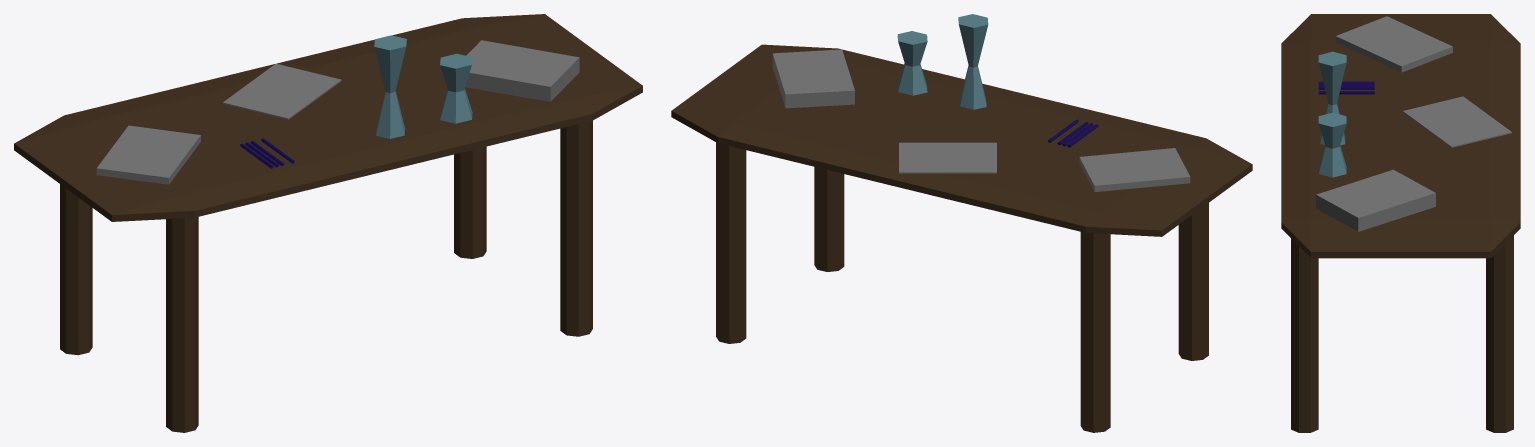
File: Work Table.fbx
3 renders of one model, left to right at view 1: azimuth 30°, elevation 25°; view 2: azimuth 150°, elevation 25°; view 3: azimuth 270°, elevation 25°, orthographic. The views are drawn at different scales.
Visible parts, largest first — view 1: beveled_cuboid, cylinder_1, cylinder, cylinder_3, cube, cube_1, cube_2, cylinder_2, cone_3, cone_2, cone_1, cone; view 2: beveled_cuboid, cylinder_3, cylinder_2, cylinder_1, cube, cube_1, cube_2, cylinder, cone_3, cone_2, cone_1, cone; view 3: beveled_cuboid, cylinder_2, cylinder, cube, cube_1, cube_2, cone_3, cone_1, cone.
Part boxes in pixels (<box>): beveled_cuboid: <box>14,14,642,221</box>; cylinder_1: <box>166,217,198,432</box>; cylinder: <box>560,120,592,336</box>; cylinder_3: <box>60,184,92,355</box>; cube: <box>465,40,579,101</box>; cube_1: <box>96,125,200,184</box>; cube_2: <box>222,63,341,119</box>; cylinder_2: <box>454,146,486,258</box>; cone_3: <box>374,35,406,93</box>; cone_2: <box>376,91,405,138</box>; cone_1: <box>440,53,472,92</box>; cone: <box>440,88,472,123</box>; beveled_cuboid: <box>671,44,1252,236</box>; cylinder_3: <box>1080,232,1110,432</box>; cylinder_2: <box>716,142,746,343</box>; cylinder_1: <box>1178,203,1208,360</box>; cube: <box>772,49,854,108</box>; cube_1: <box>1079,148,1190,191</box>; cube_2: <box>899,142,996,173</box>; cylinder: <box>814,167,844,271</box>; cone_3: <box>958,14,988,67</box>; cone_2: <box>959,65,986,109</box>; cone_1: <box>897,31,927,66</box>; cone: <box>897,63,927,95</box>; beveled_cuboid: <box>1281,14,1520,258</box>; cylinder_2: <box>1486,235,1513,432</box>; cylinder: <box>1291,238,1318,432</box>; cube: <box>1316,169,1435,231</box>; cube_1: <box>1335,16,1452,72</box>; cube_2: <box>1403,96,1511,147</box>; cone_3: <box>1318,51,1346,105</box>; cone_1: <box>1318,112,1346,148</box>; cone: <box>1318,145,1346,177</box>.
Bounding box in the file's own units: 252 × 144 × 108.
